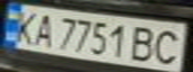1: (106, 21, 130, 60)
5: (90, 19, 112, 56)
7: (51, 15, 78, 52), (69, 16, 93, 54)
A: (27, 10, 60, 47)
B: (127, 24, 163, 63)
C: (148, 26, 187, 66)
K: (6, 7, 42, 46)
